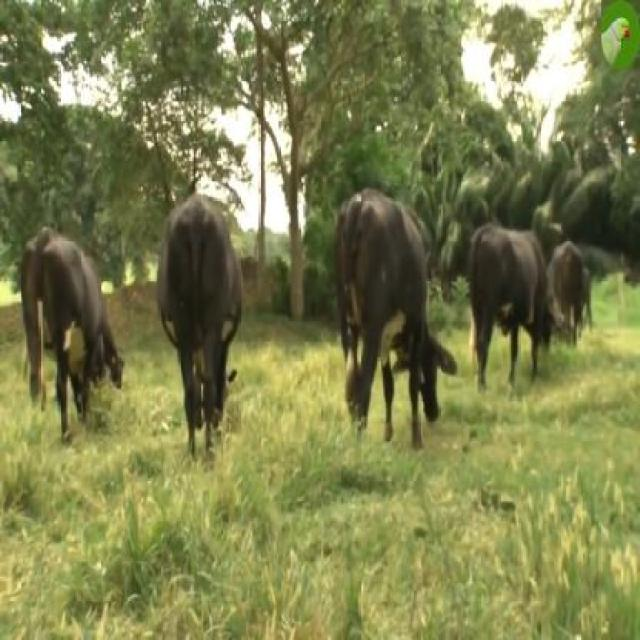Cow: (334, 188, 457, 454), (157, 192, 243, 468), (22, 228, 108, 434), (468, 225, 555, 400)
